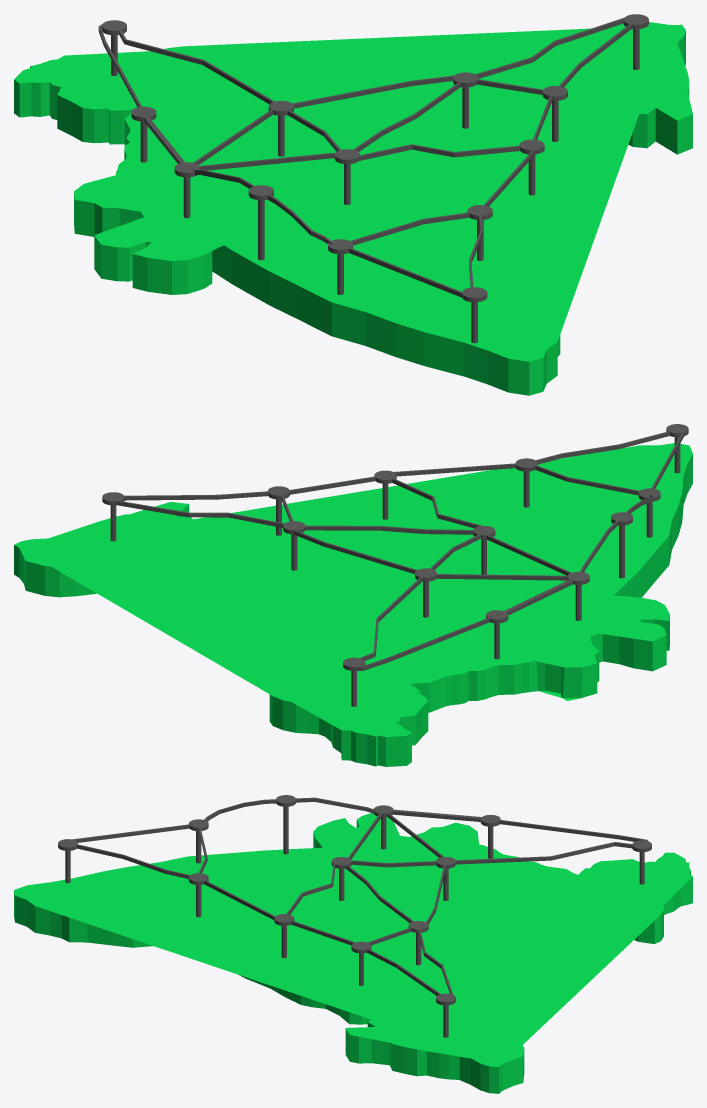
The model's file is Map_AI_VR2.fbx.
3 views of the same model, one above another, from view 1: azimuth 30°, elevation 25°; view 2: azimuth 150°, elevation 25°; view 3: azimuth 270°, elevation 25° (orthographic). The views are drawn at different scales.
Parts seen in each view (by area): view 1: Plane, Cylinder.002, Cylinder.012, Cylinder.001, Cylinder.009, Cylinder.007, Cylinder.011, Cylinder.010, Cylinder.006, Cylinder.004, Cylinder.008, Cylinder.005; view 2: Plane, Cylinder.012, Cylinder.001, Cylinder.002, Cylinder.010, Cylinder.007, Cylinder.011, Cylinder.009, Cylinder.006, Cylinder.004; view 3: Plane, Cylinder.012, Cylinder.002, Cylinder.001, Cylinder.010, Cylinder.004, Cylinder.009, Cylinder.011, Cylinder.007, Cylinder.006.
Part boxes in pixels (<box>): Plane: <box>14,22,692,395</box>; Cylinder.002: <box>118,29,453,156</box>; Cylinder.012: <box>193,82,460,260</box>; Cylinder.001: <box>144,109,334,218</box>; Cylinder.009: <box>328,212,469,297</box>; Cylinder.007: <box>453,17,626,128</box>; Cylinder.011: <box>356,96,552,195</box>; Cylinder.010: <box>467,150,535,287</box>; Cylinder.006: <box>542,22,633,141</box>; Cylinder.004: <box>98,24,156,162</box>; Cylinder.008: <box>462,287,487,343</box>; Cylinder.005: <box>623,14,648,69</box>; Plane: <box>14,443,692,766</box>; Cylinder.012: <box>305,494,653,578</box>; Cylinder.001: <box>436,535,589,620</box>; Cylinder.002: <box>294,530,480,660</box>; Cylinder.010: <box>394,431,670,507</box>; Cylinder.007: <box>114,495,305,570</box>; Cylinder.011: <box>290,470,484,528</box>; Cylinder.009: <box>535,432,684,537</box>; Cylinder.006: <box>120,486,289,535</box>; Cylinder.004: <box>356,610,508,670</box>; Plane: <box>14,813,692,1093</box>; Cylinder.012: <box>202,795,413,922</box>; Cylinder.002: <box>351,842,633,924</box>; Cylinder.001: <box>348,805,481,859</box>; Cylinder.010: <box>76,844,275,919</box>; Cylinder.004: <box>480,815,648,858</box>; Cylinder.009: <box>72,819,208,873</box>; Cylinder.011: <box>274,862,354,958</box>; Cylinder.007: <box>368,921,453,995</box>; Cylinder.006: <box>351,941,442,995</box>.
Bounding box in the file's own units: 1603 × 245 × 1807.
